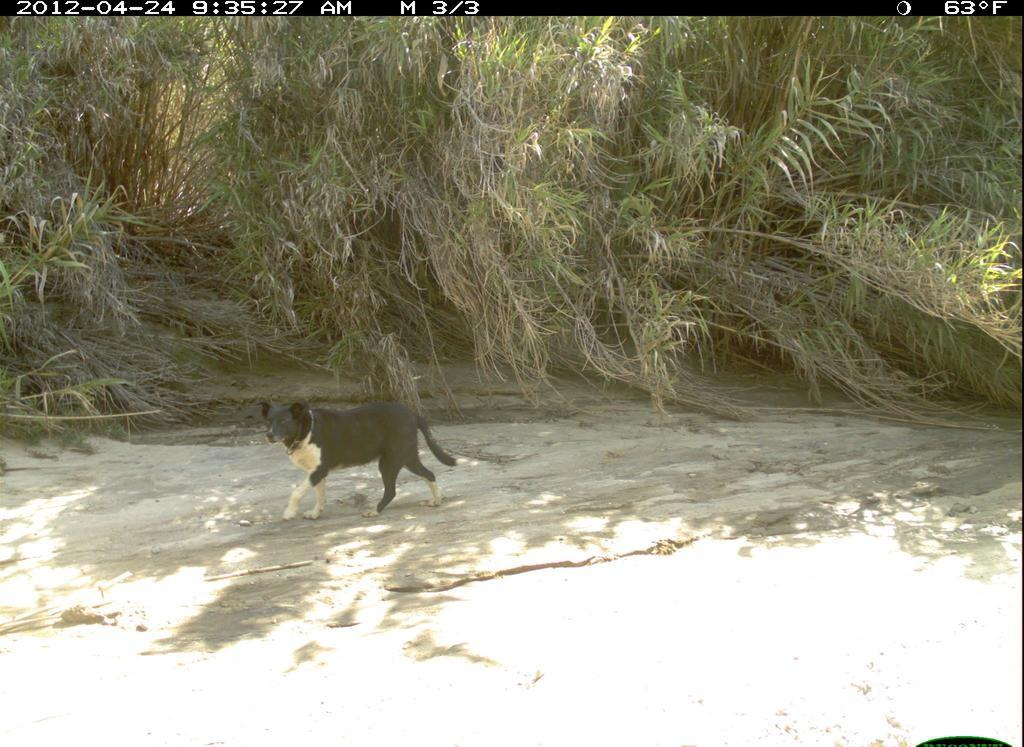dog: (244, 392, 473, 521)
